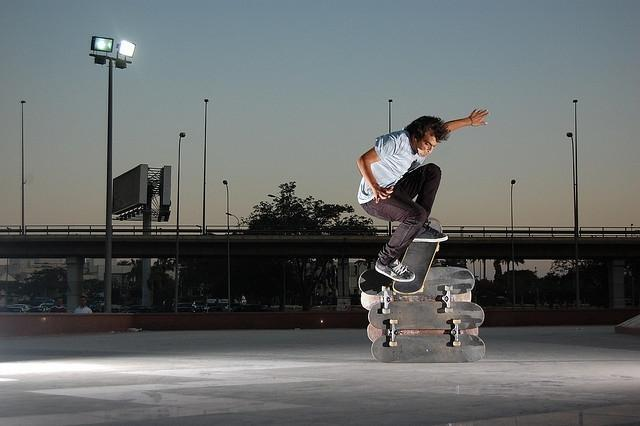car: (162, 298, 192, 312), (225, 304, 252, 312), (190, 298, 203, 312), (11, 304, 31, 312), (40, 303, 54, 309), (111, 306, 120, 312)
